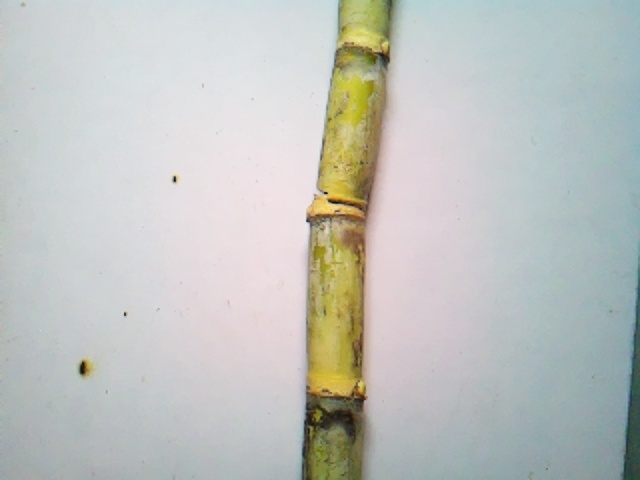Good Sugarcane: (299, 0, 392, 474)
Node: (298, 373, 369, 414), (328, 26, 393, 69), (302, 190, 369, 228)
